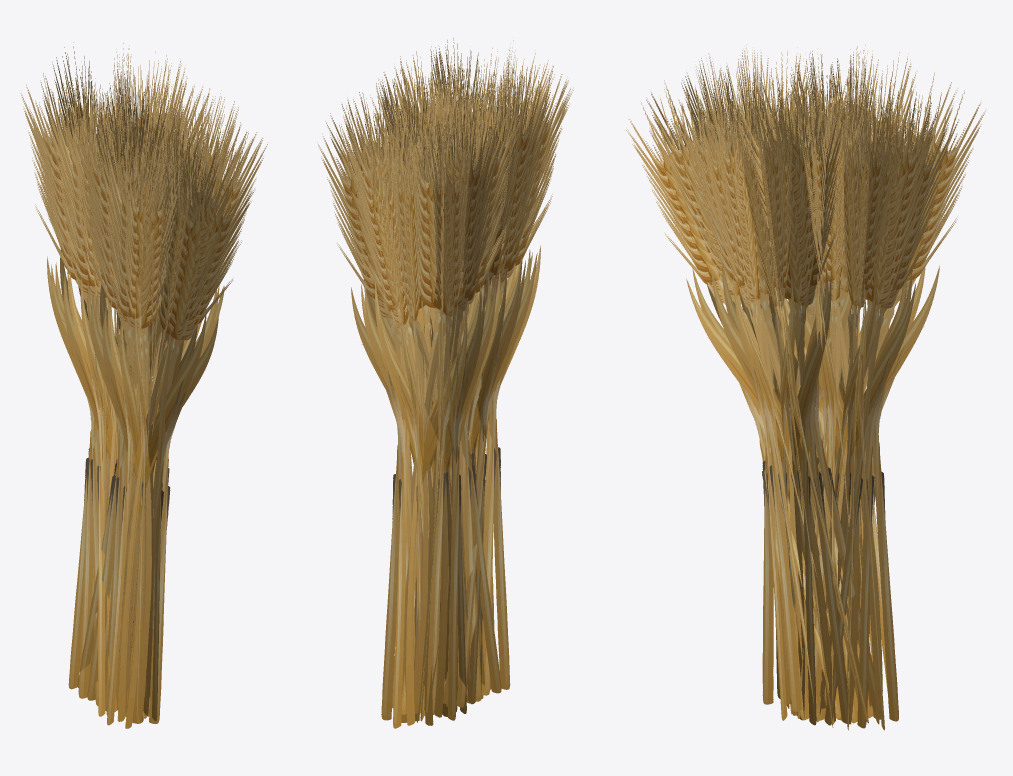
The model's file is wheat bundle.fbx.
3 renders of one model, left to right at view 1: azimuth 30°, elevation 25°; view 2: azimuth 150°, elevation 25°; view 3: azimuth 270°, elevation 25°, orthographic. The views are drawn at different scales.
Parts seen in each view (by area): view 1: wheat_bundle1; view 2: wheat_bundle1; view 3: wheat_bundle1.
Boxes of the visible parts, x1=… form: wheat_bundle1: x1=20, y1=42, x2=268, y2=728; wheat_bundle1: x1=317, y1=38, x2=573, y2=728; wheat_bundle1: x1=626, y1=44, x2=986, y2=730.
Bounding box in the file's own units: 20.31 × 74.64 × 38.14.
1 material, 1 textured.
